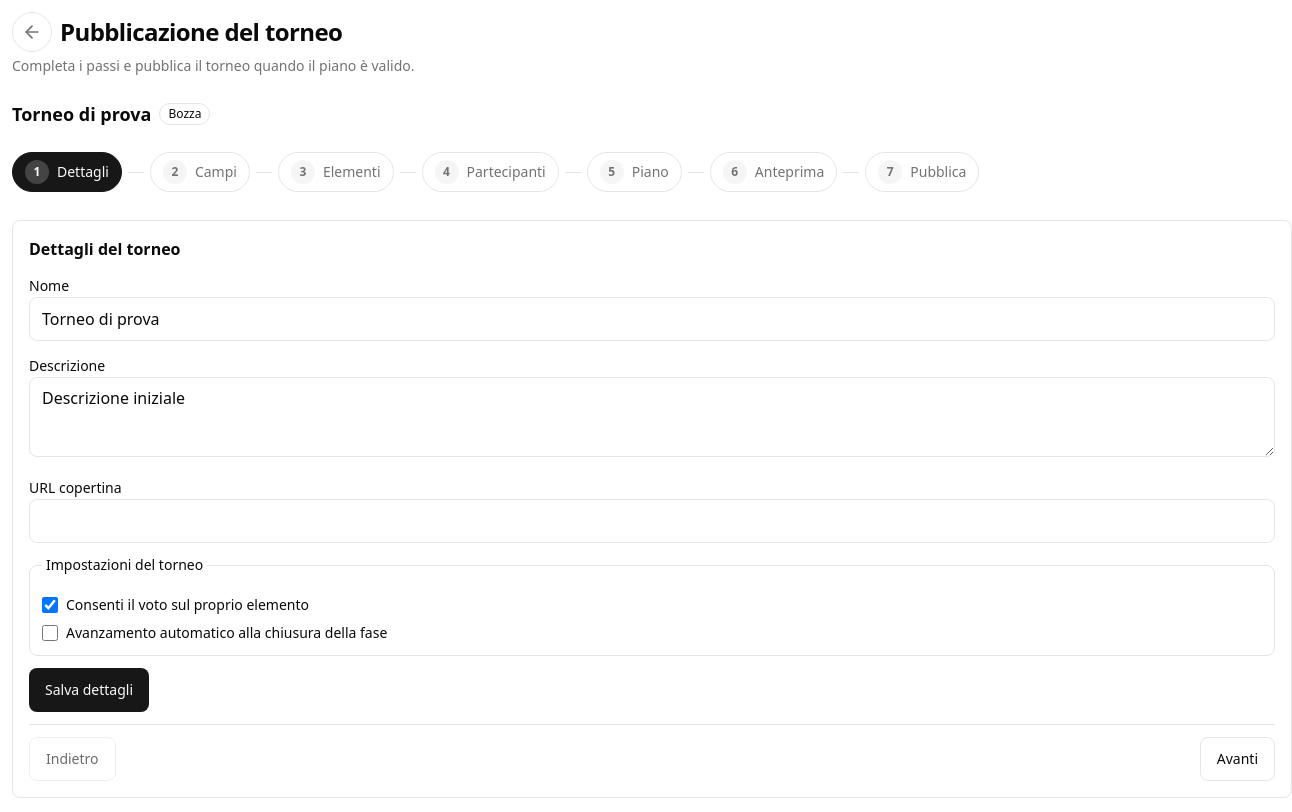
Test: TournamentWizardView › blocca la pubblicazione quando il piano non è valido
What coordinates should you click on to do the following:
click the button with test id "wizard-step-publish"
I would click on:
 (922, 172)
Its box is left=865, top=152, right=979, bottom=192.
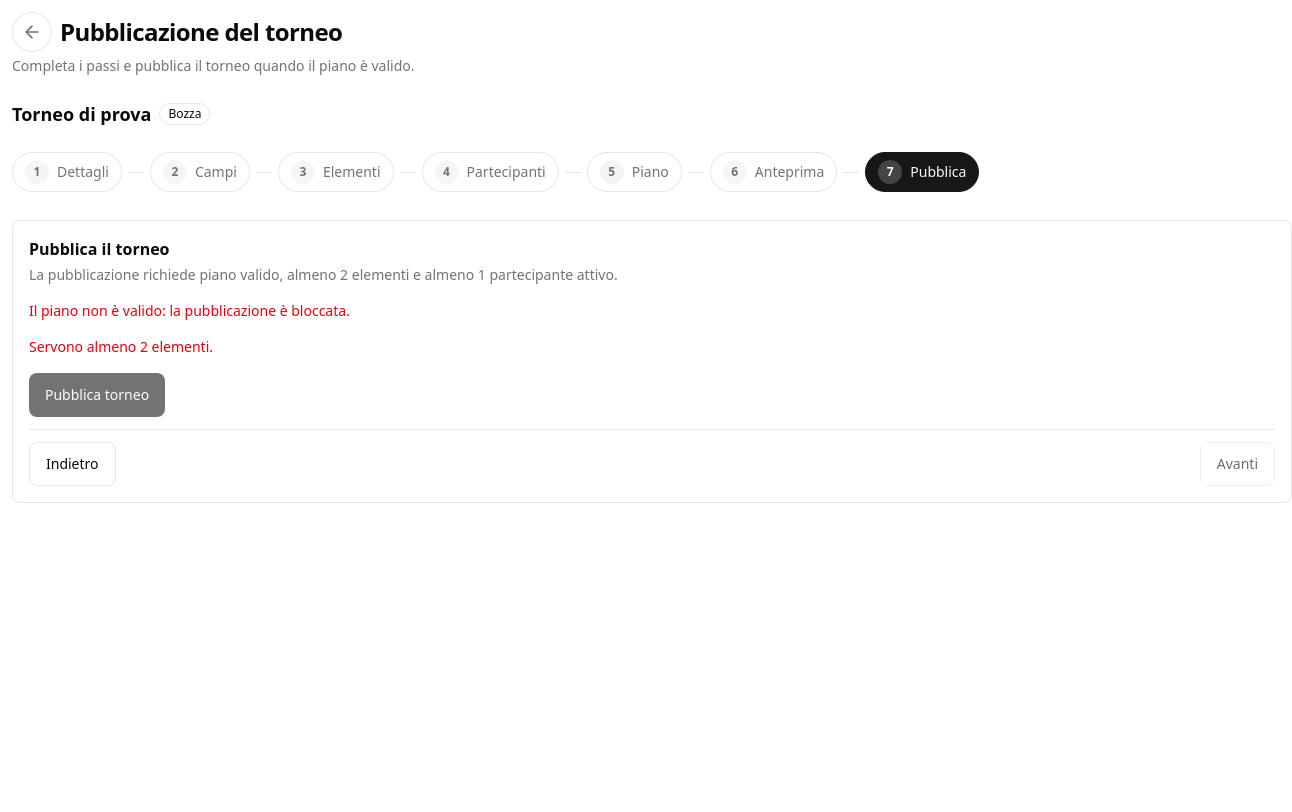
Expected: the message with test id "publish-blocked" shows "Il piano non è valido", left=29, top=301, right=350, bottom=320
Expected: the text "Servono almeno 2 elementi." is shown, left=29, top=337, right=213, bottom=356
Expected: the button with id "wizard-publish-button" is disabled, left=29, top=373, right=165, bottom=417
